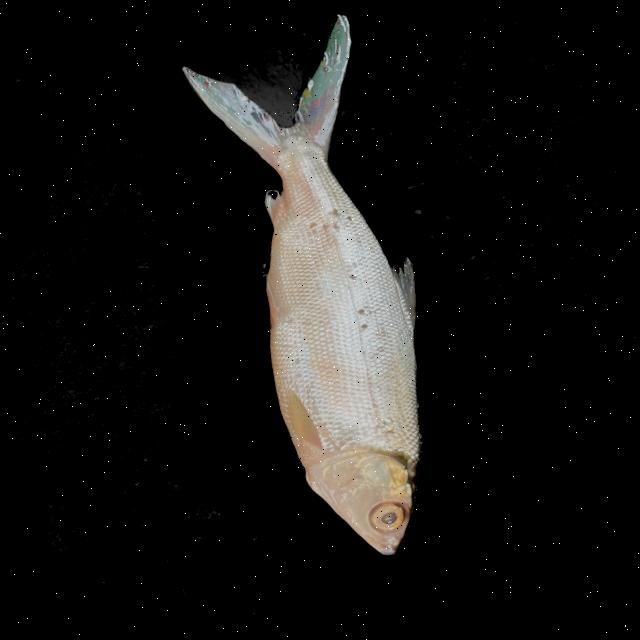555 g: (177, 8, 466, 575)
